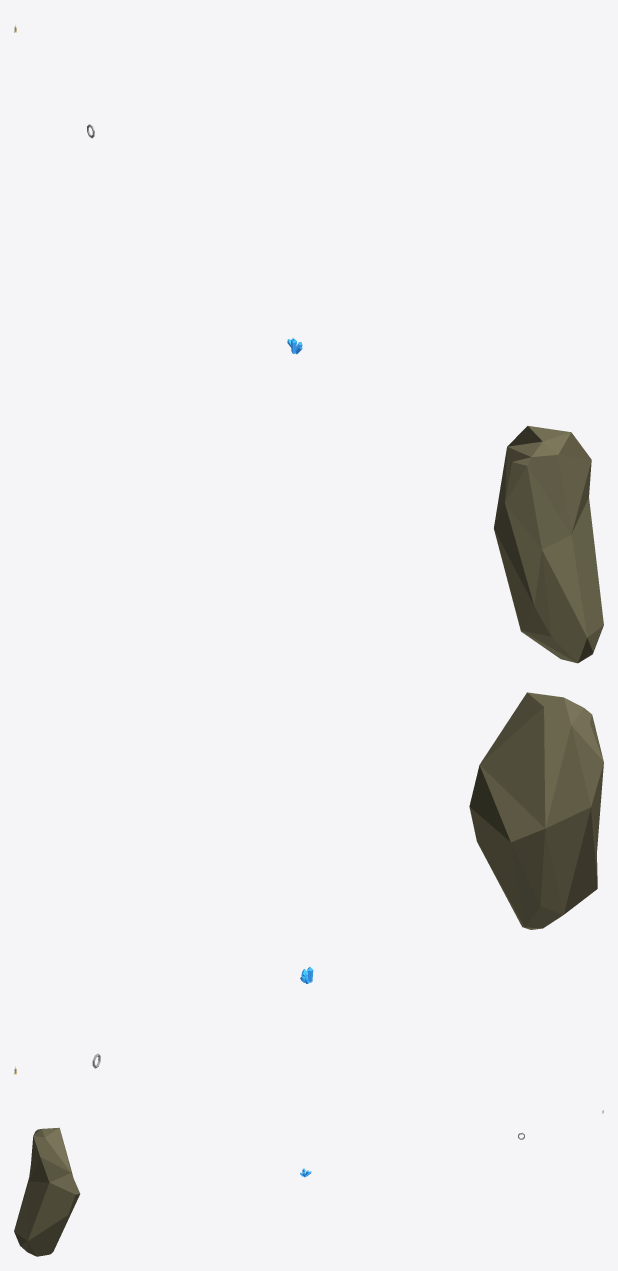
The picture shows the model from 3 angles, top to bottom: view 1: azimuth 30°, elevation 25°; view 2: azimuth 150°, elevation 25°; view 3: azimuth 270°, elevation 25°; orthographic projection. The views are drawn at different scales.
Visible parts, largest first — view 1: Box15768_rock2_0; view 2: Box15768_rock2_0; view 3: Box15768_rock2_0.
Boxes of the visible parts, bbox=[...] form: Box15768_rock2_0: bbox=[494, 426, 603, 663]; Box15768_rock2_0: bbox=[469, 692, 603, 929]; Box15768_rock2_0: bbox=[14, 1127, 80, 1256].
Size of the model in its own units: 576 by 1545 by 5727.
